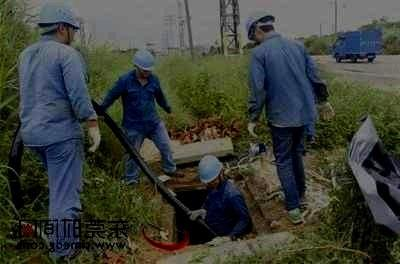helmet: (36, 2, 81, 45), (244, 9, 276, 43), (198, 154, 225, 189), (132, 49, 156, 79)
